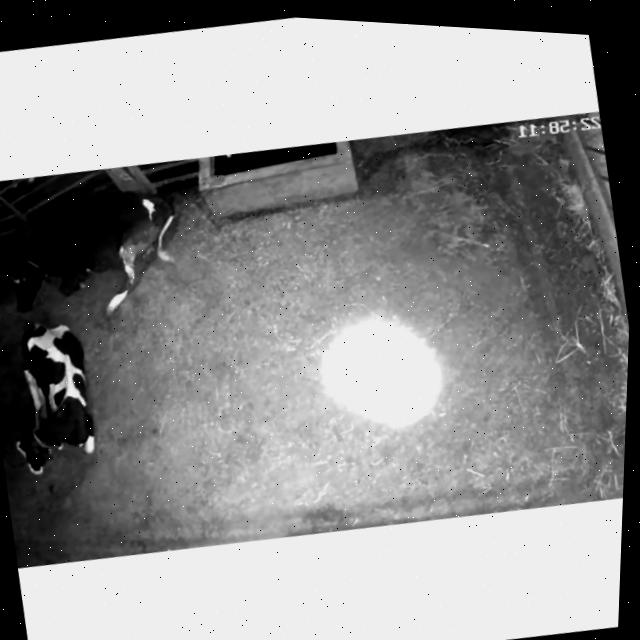lay: (0, 168, 201, 339), (0, 304, 112, 488)
